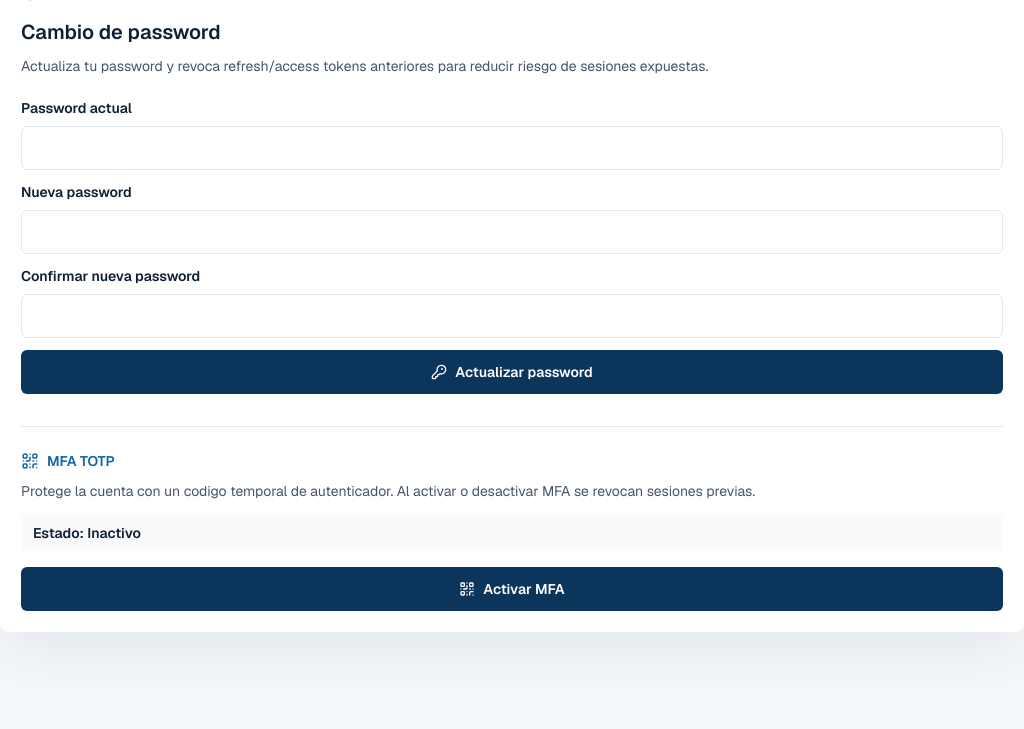
Test: AccountSecurity › enrolls MFA and stores rotated tokens after verification
Click the button "Activar MFA": [512, 589] box [21,567,1003,611]
(page scrolled)
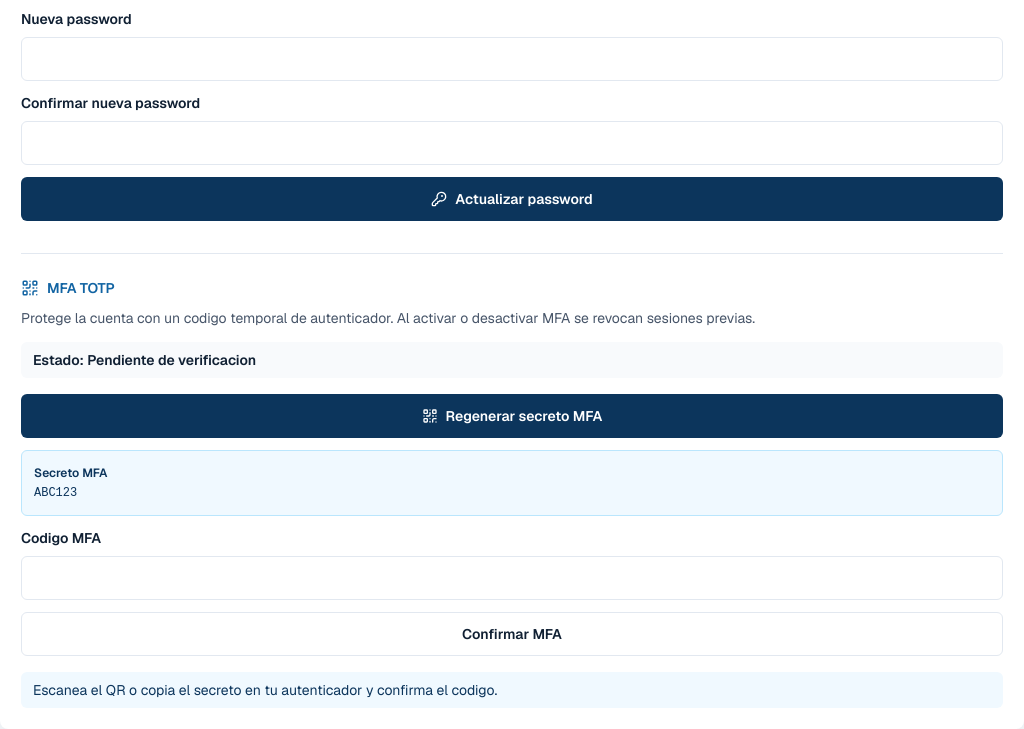
Now the text "Secreto MFA" is shown, box [34,465,108,481]
In the field labelled "Codigo MFA": [512, 578] box [21,556,1003,600], type "123456"
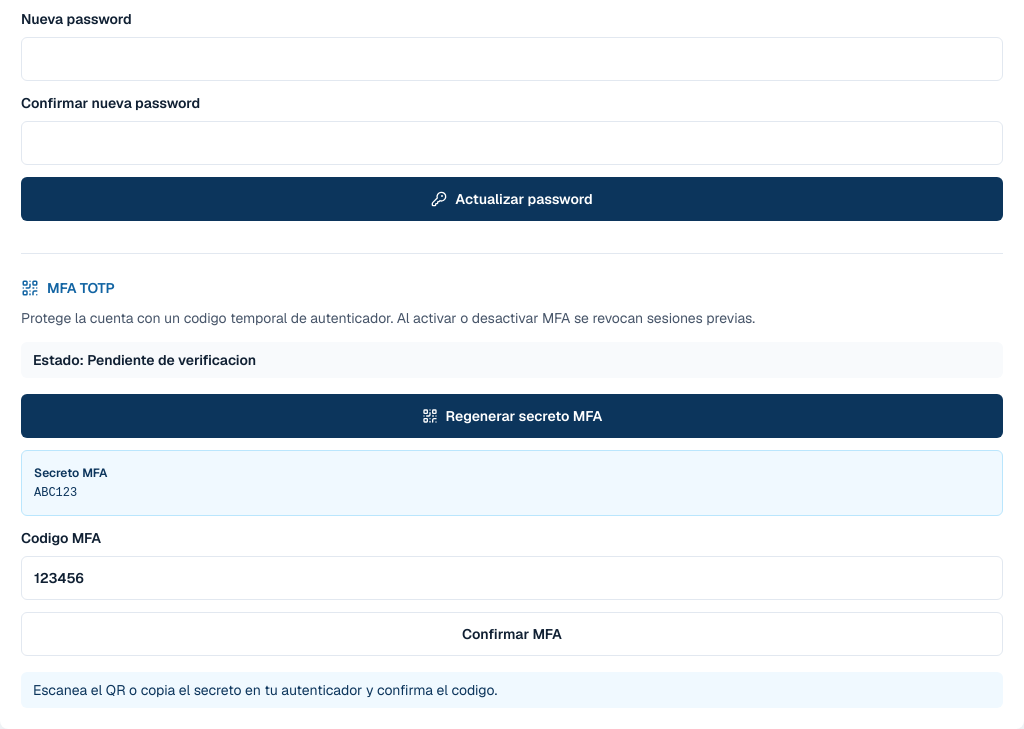
Click the button "Confirmar MFA": [512, 634] box [21,612,1003,656]
(page scrolled)
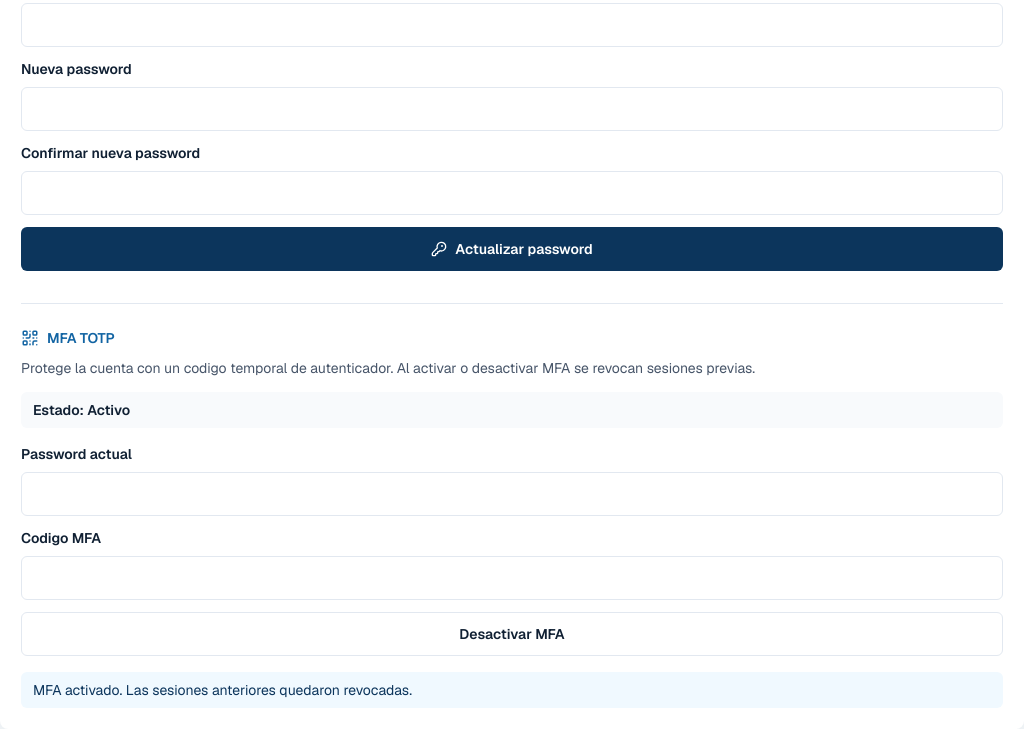
Now the text "MFA activado. Las sesiones anteriores quedaron revocadas." is shown, box [21,672,1003,708]
